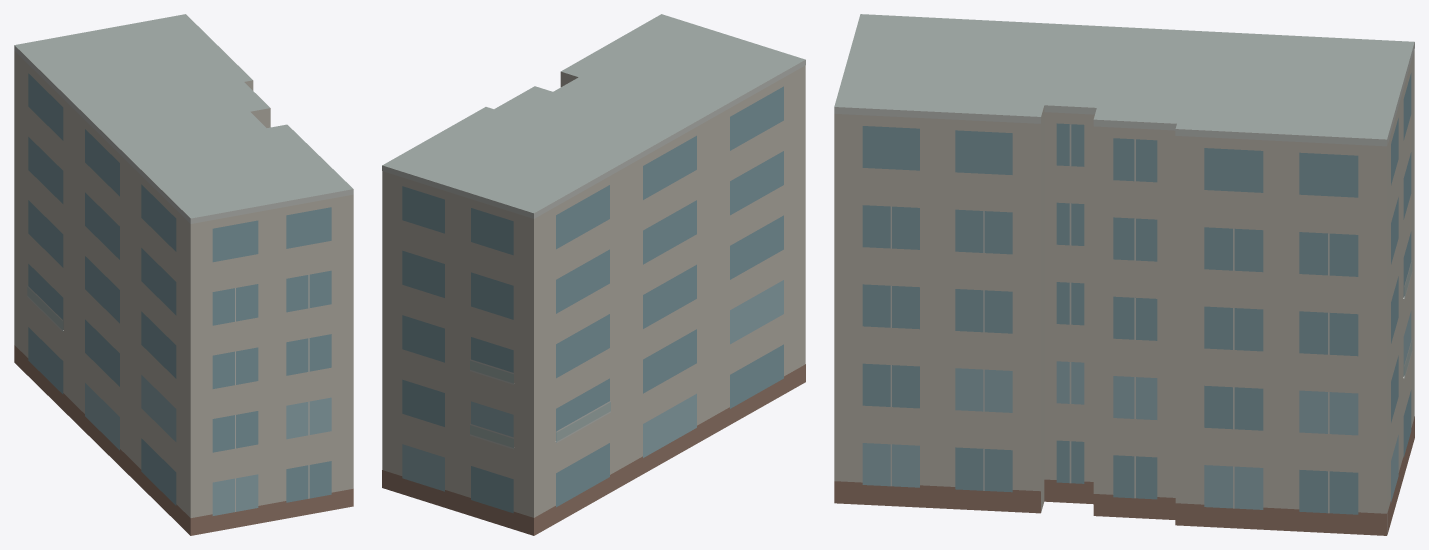
The model's file is survey-upis-32572501.glb.
3 renders of one model, left to right at view 1: azimuth 30°, elevation 25°; view 2: azimuth 150°, elevation 25°; view 3: azimuth 270°, elevation 25°, orthographic. The views are drawn at different scales.
Visible parts, largest first — view 1: survey-upis-32572501.tmp; view 2: survey-upis-32572501.tmp; view 3: survey-upis-32572501.tmp.
Part boxes in pixels (box(x1,y1,x2,y2)): survey-upis-32572501.tmp: box(14, 14, 353, 535); survey-upis-32572501.tmp: box(382, 14, 805, 535); survey-upis-32572501.tmp: box(834, 14, 1414, 535).
Bounding box in the file's own units: 9.59 × 14.1 × 18.73.
